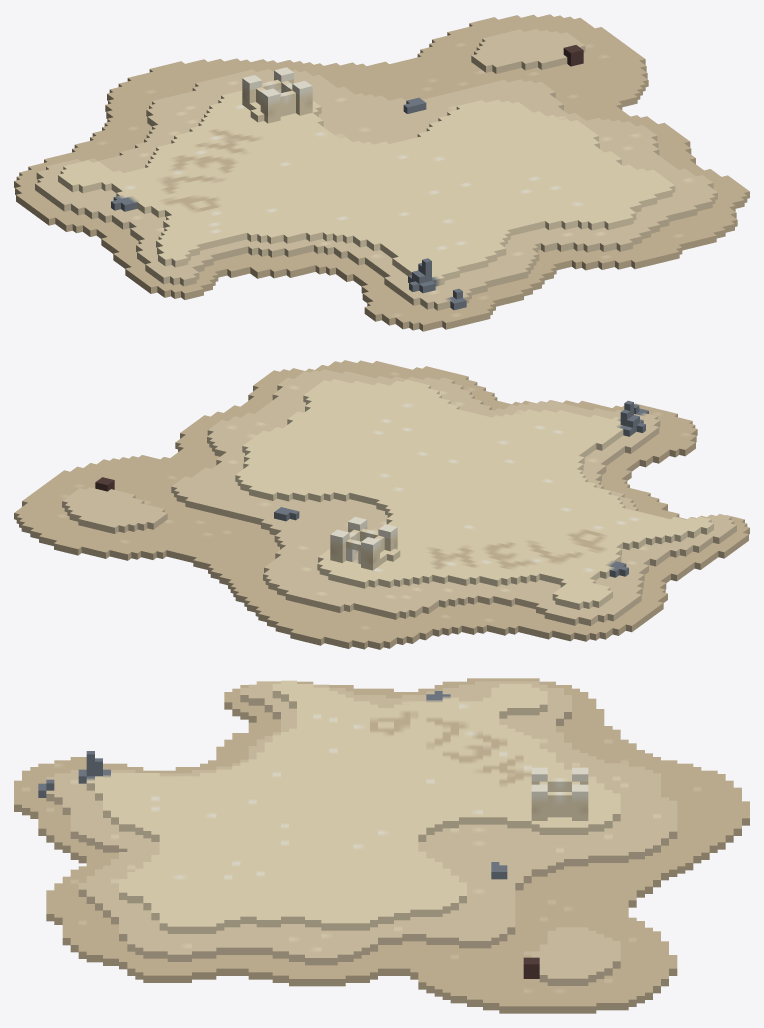
Rendered from sandbeach.fbx.
The picture shows the model from 3 angles, top to bottom: view 1: azimuth 30°, elevation 25°; view 2: azimuth 150°, elevation 25°; view 3: azimuth 270°, elevation 25°; orthographic projection. The views are drawn at different scales.
Visible parts, largest first — view 1: Matrix_19; view 2: Matrix_19; view 3: Matrix_19.
Part boxes in pixels (box(x1,y1,x2,y2)): Matrix_19: box(14, 14, 749, 331); Matrix_19: box(14, 360, 749, 649); Matrix_19: box(14, 678, 749, 1013).
Bounding box in the file's own units: 96 × 7 × 91.
1 material, 1 textured.
